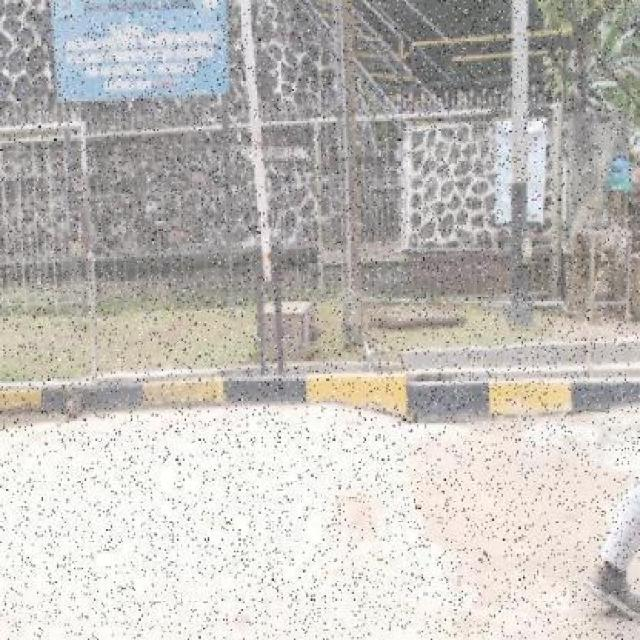Boots: (582, 553, 640, 621)
